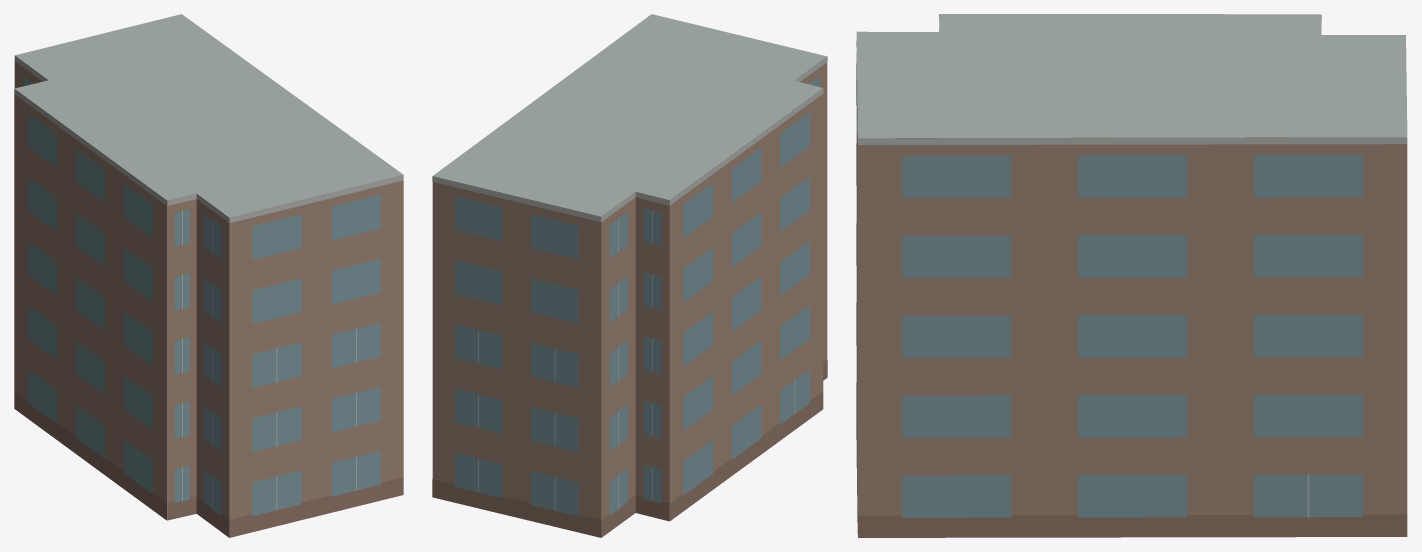
File: survey-upis-32946113.glb
3 renders of one model, left to right at view 1: azimuth 30°, elevation 25°; view 2: azimuth 150°, elevation 25°; view 3: azimuth 270°, elevation 25°, orthographic. The views are drawn at different scales.
Parts seen in each view (by area): view 1: survey-upis-32946113.tmp; view 2: survey-upis-32946113.tmp; view 3: survey-upis-32946113.tmp.
Boxes of the visible parts, x1=… form: survey-upis-32946113.tmp: x1=14, y1=14, x2=403, y2=537; survey-upis-32946113.tmp: x1=432, y1=14, x2=827, y2=537; survey-upis-32946113.tmp: x1=856, y1=14, x2=1407, y2=537.
Bounding box in the file's own units: 9.34 × 14 × 17.5.
